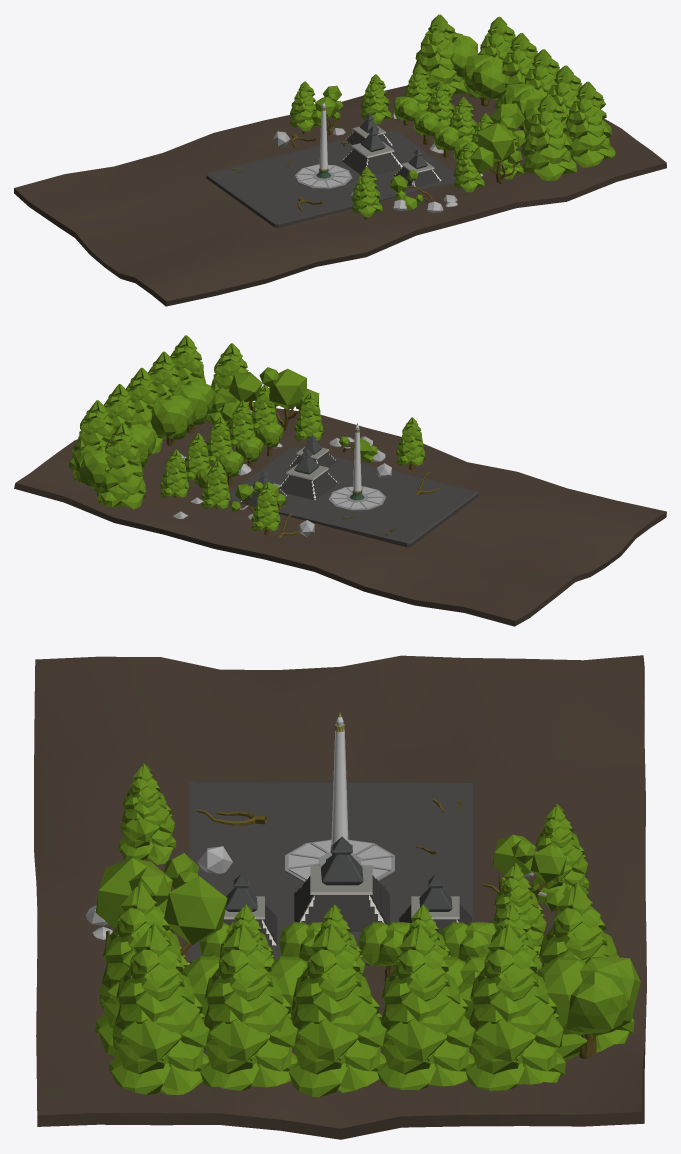
The model's file is Environment tugu pahlawan.fbx.
3 views of the same model, one above another, from view 1: azimuth 30°, elevation 25°; view 2: azimuth 150°, elevation 25°; view 3: azimuth 270°, elevation 25° (orthographic). The views are drawn at different scales.
Visible parts, largest first — view 1: pPlane2, pCube41, polySurface81, polySurface80, polySurface82, polySurface76, Tree_1_polySurface19, Tugu_pahlawan:polySurface16, Tugu_pahlawan:pCylinder13, polySurface77, polySurface84, polySurface29 (+16 smaller); view 2: pPlane2, pCube41, polySurface76, polySurface82, Tugu_pahlawan:polySurface16, Tree_1_polySurface21, polySurface81, polySurface30, Tugu_pahlawan:pCylinder13, polySurface78, Tree_1_polySurface22, polySurface80 (+18 smaller); view 3: pPlane2, pCube41, polySurface80, polySurface78, polySurface30, polySurface79, polySurface77, Tree_1_polySurface20, polySurface82, Tugu_pahlawan:polySurface16, polySurface76, polySurface81 (+20 smaller).
Part boxes in pixels (left/top/right/bottom): pPlane2: left=14, top=77, right=666, bottom=306; pCube41: left=206, top=129, right=455, bottom=228; polySurface81: left=521, top=94, right=577, bottom=180; polySurface80: left=565, top=81, right=615, bottom=167; polySurface82: left=470, top=103, right=525, bottom=183; polySurface76: left=412, top=14, right=467, bottom=97; Tree_1_polySurface19: left=463, top=55, right=505, bottom=106; Tugu_pahlawan:polySurface16: left=341, top=126, right=402, bottom=175; Tugu_pahlawan:pCylinder13: left=295, top=101, right=352, bottom=188; polySurface77: left=495, top=33, right=537, bottom=109; polySurface84: left=351, top=167, right=382, bottom=219; polySurface29: left=360, top=74, right=391, bottom=124; pPlane2: left=14, top=385, right=666, bottom=626; pCube41: left=229, top=447, right=478, bottom=547; polySurface76: left=94, top=423, right=145, bottom=509; polySurface82: left=220, top=367, right=319, bottom=430; Tugu_pahlawan:polySurface16: left=279, top=449, right=338, bottom=500; Tree_1_polySurface21: left=150, top=395, right=195, bottom=446; polySurface81: left=206, top=343, right=254, bottom=426; polySurface30: left=68, top=400, right=114, bottom=483; Tugu_pahlawan:pCylinder13: left=328, top=423, right=386, bottom=510; polySurface78: left=126, top=368, right=164, bottom=453; Tree_1_polySurface22: left=171, top=380, right=215, bottom=433; polySurface80: left=170, top=335, right=205, bottom=384; pPlane2: left=34, top=655, right=646, bottom=1139; pCube41: left=189, top=780, right=472, bottom=965; polySurface80: left=109, top=923, right=209, bottom=1094; polySurface78: left=288, top=923, right=386, bottom=1097; polySurface30: left=465, top=923, right=565, bottom=1090; polySurface79: left=200, top=923, right=297, bottom=1090; polySurface77: left=377, top=923, right=474, bottom=1089; Tree_1_polySurface20: left=537, top=956, right=640, bottom=1058; polySurface82: left=95, top=858, right=227, bottom=963; Tugu_pahlawan:polySurface16: left=294, top=836, right=389, bottom=931; polySurface76: left=539, top=882, right=634, bottom=1060; polySurface81: left=95, top=882, right=188, bottom=1056.
Bounding box in the file's own units: 64.92 × 12.24 × 34.33.
